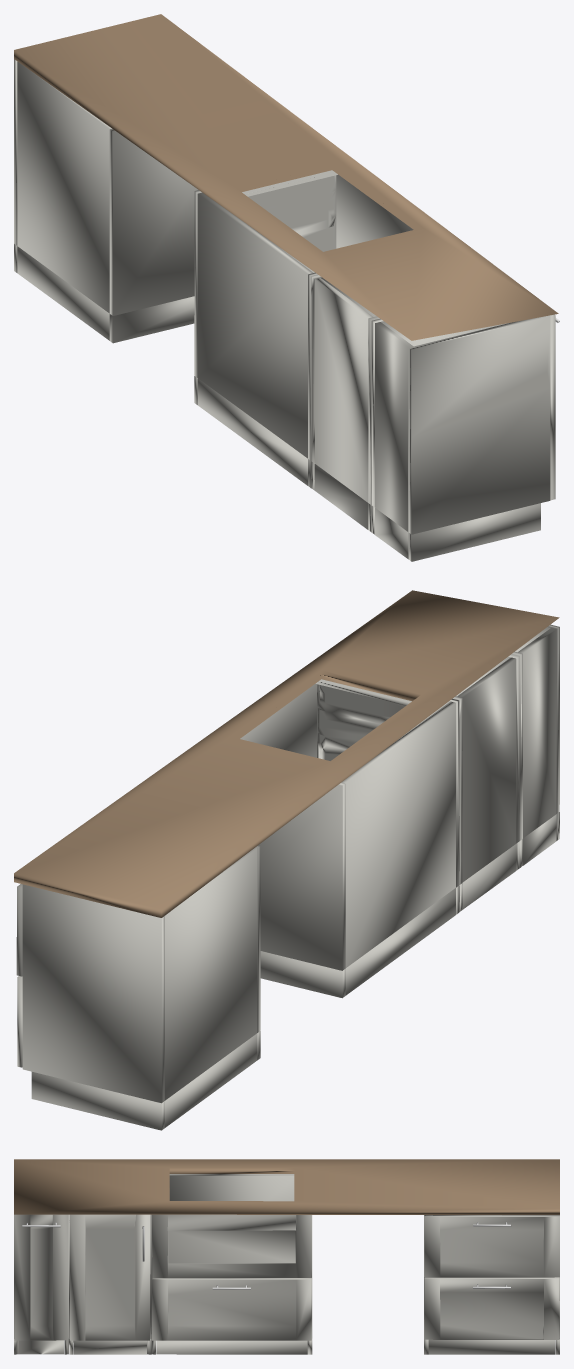
Rendered from kitchen_counter.glb.
The picture shows the model from 3 angles, top to bottom: view 1: azimuth 30°, elevation 25°; view 2: azimuth 150°, elevation 25°; view 3: azimuth 270°, elevation 25°; orthographic projection. The views are drawn at different scales.
Parts seen in each view (by area): view 1: body; view 2: body; view 3: body.
Boxes of the visible parts, x1,y1,x2,y2 form: body: (14,14,559,561); body: (14,590,559,1130); body: (14,1159,559,1354).
Size of the model in its own units: 0.6796 by 0.9273 by 3.02.
